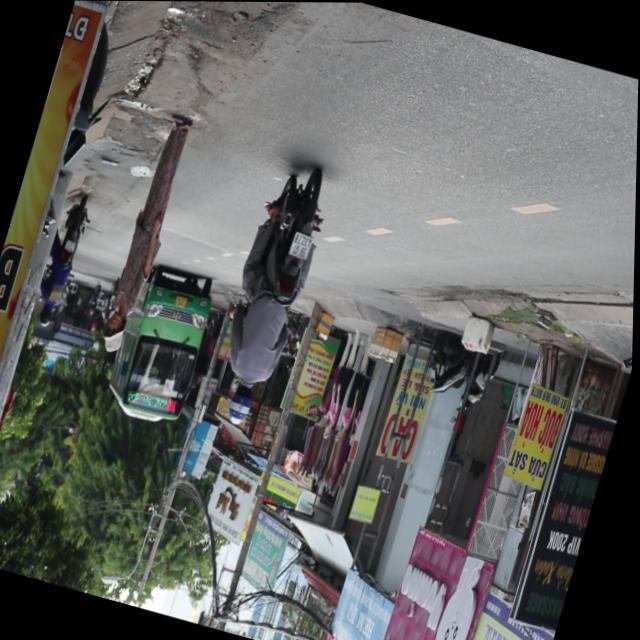helmet: (226, 381, 260, 428)
licenseplate: (202, 155, 345, 433)
nohelmet: (288, 231, 315, 261)
